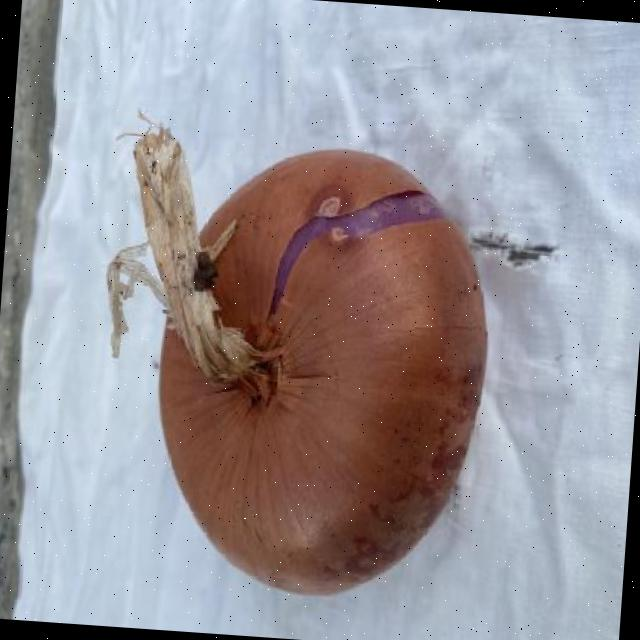Onion: (108, 120, 487, 593)
